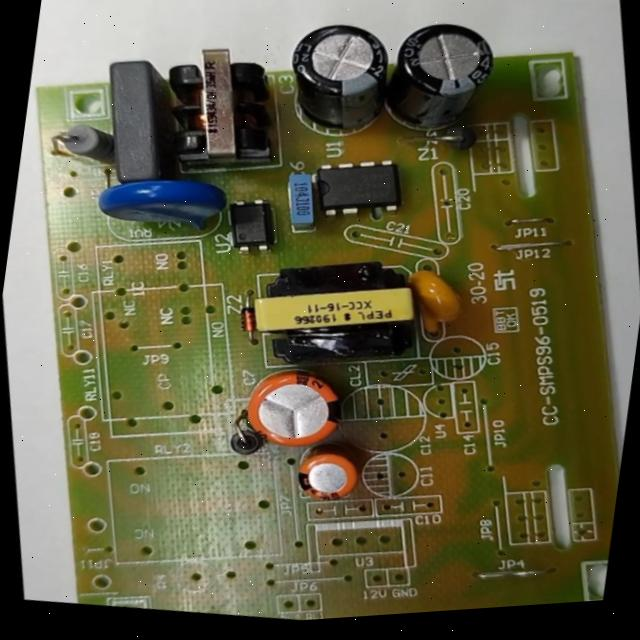Cap1: (226, 344, 367, 474)
Cap2: (279, 426, 377, 521)
Cap3: (260, 0, 422, 168)
Cap4: (351, 0, 525, 165)
MOSFET: (293, 140, 418, 237)
Mov: (78, 149, 248, 264)
Resistor: (34, 106, 136, 188)
Transformer: (231, 226, 456, 398), (137, 24, 297, 192)
